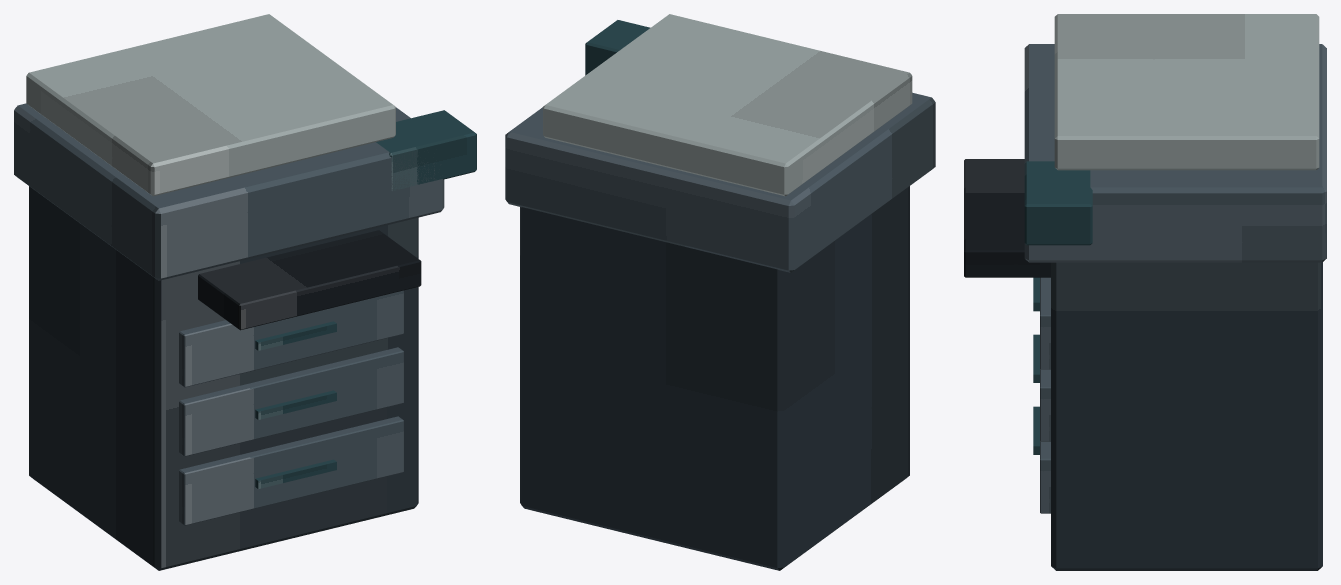
File: office_photocopier_charcoal.glb
The picture shows the model from 3 angles, left to right: view 1: azimuth 30°, elevation 25°; view 2: azimuth 150°, elevation 25°; view 3: azimuth 270°, elevation 25°; orthographic projection. The views are drawn at different scales.
Visible parts, largest first — view 1: CopierBase, ScannerLid, ScannerBody, OutputTray, PaperDrawer_1, PaperDrawer_0, PaperDrawer_2, ControlPanel, DrawerHandle_2, DrawerHandle_0, DrawerHandle_1; view 2: CopierBase, ScannerLid, ScannerBody, ControlPanel; view 3: CopierBase, ScannerLid, ScannerBody, OutputTray, ControlPanel, PaperDrawer_2, PaperDrawer_0, PaperDrawer_1.
Boxes of the visible parts, <box> form: CopierBase: <box>29,186,418,570</box>; ScannerLid: <box>26,14,395,196</box>; ScannerBody: <box>14,103,444,280</box>; OutputTray: <box>198,230,421,330</box>; PaperDrawer_1: <box>179,347,403,456</box>; PaperDrawer_0: <box>179,416,403,525</box>; PaperDrawer_2: <box>179,290,403,387</box>; ControlPanel: <box>376,110,476,190</box>; DrawerHandle_2: <box>255,321,336,350</box>; DrawerHandle_0: <box>255,459,336,488</box>; DrawerHandle_1: <box>255,390,336,419</box>; CopierBase: <box>520,186,909,570</box>; ScannerLid: <box>543,14,912,196</box>; ScannerBody: <box>505,92,935,272</box>; ControlPanel: <box>585,20,650,75</box>; CopierBase: <box>1051,262,1322,570</box>; ScannerLid: <box>1054,14,1319,170</box>; ScannerBody: <box>1024,44,1326,262</box>; OutputTray: <box>964,159,1050,277</box>; ControlPanel: <box>1024,161,1092,245</box>; PaperDrawer_2: <box>1040,277,1050,369</box>; PaperDrawer_0: <box>1040,441,1050,513</box>; PaperDrawer_1: <box>1040,369,1050,441</box>.
Bounding box in the file's own units: 1.02 × 1.24 × 0.96.
1 material, 1 textured.
